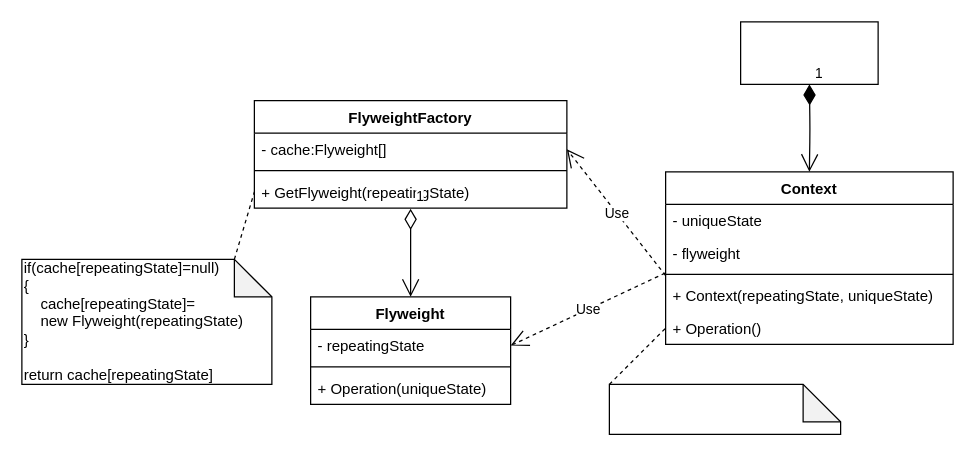
Some shapes in this 975 by 456 pixel diagram are drawn without their labels. Here are the shapes that lost their labels. From the top down, the centre of each, then its label:
At point (808, 52): "Client".
At point (724, 408): "flyweight.Operation()".
